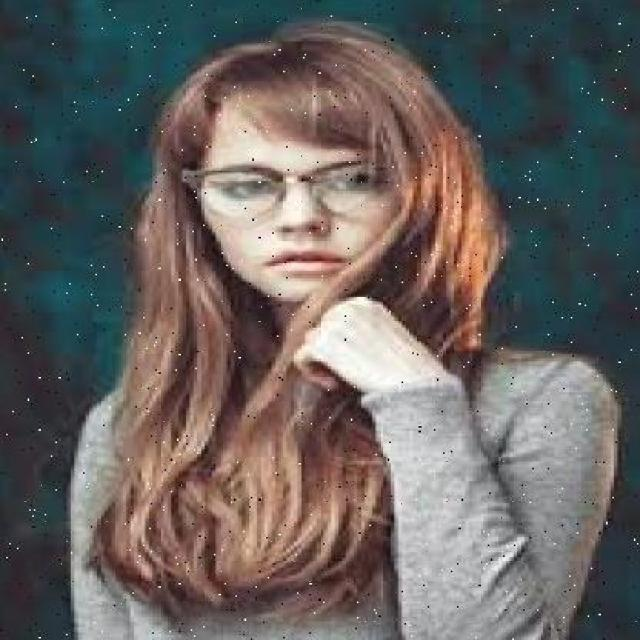glasses: (170, 143, 439, 232)
